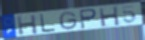5: (122, 5, 139, 24)
G: (58, 10, 79, 31)
H: (98, 5, 122, 28), (16, 13, 39, 36)
L: (39, 13, 57, 34)
P: (79, 8, 98, 30)
